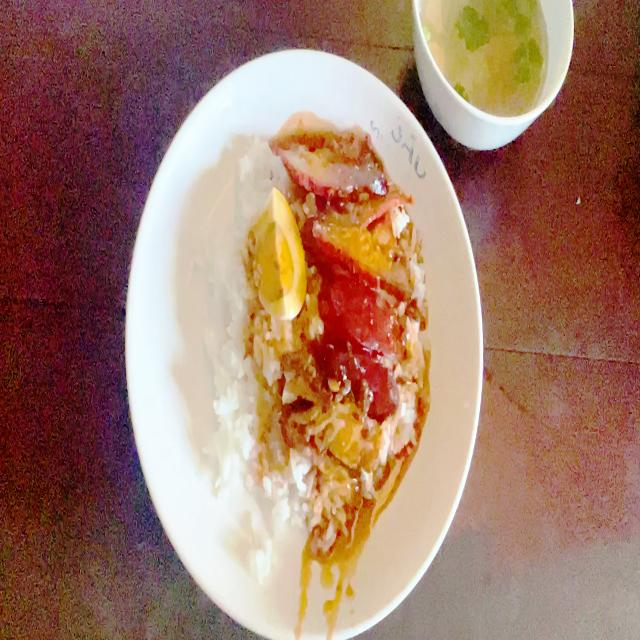boiled_egg: (257, 191, 299, 318)
chainese_sausage: (322, 284, 404, 403), (328, 279, 399, 344), (329, 353, 394, 409)
crispy_pork: (291, 417, 373, 502)
red_pork: (299, 141, 408, 269), (282, 138, 387, 195), (325, 218, 409, 272)
red_pork_and_crispy_pork: (208, 139, 420, 525)
rice: (213, 196, 260, 497), (254, 349, 287, 515), (238, 130, 280, 211)
